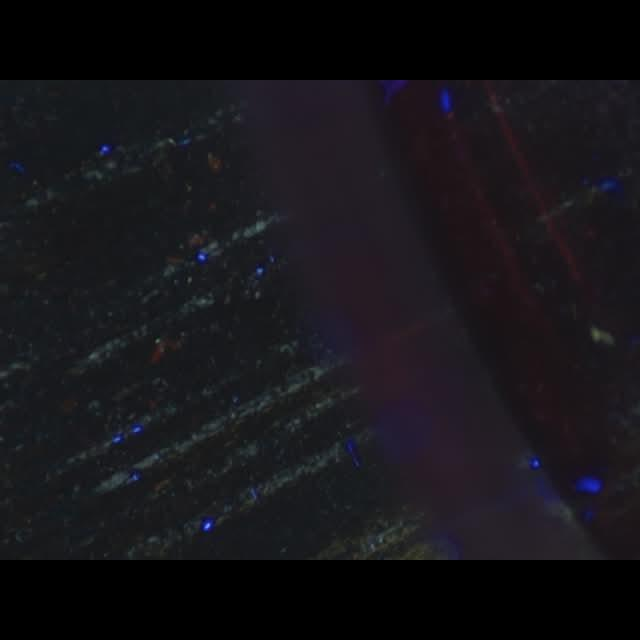microbeads: (590, 326, 612, 346)
